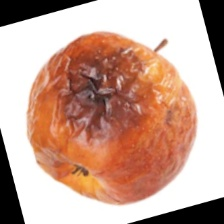apple: (20, 15, 191, 184)
